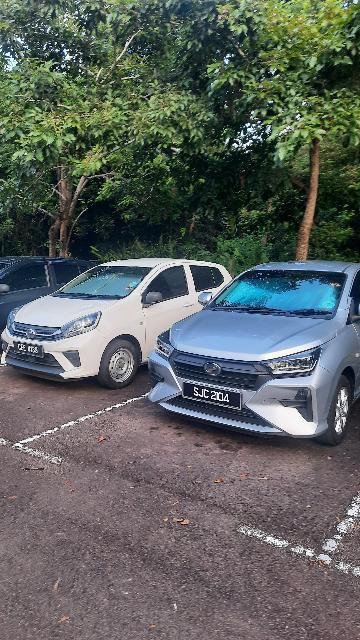License_Plate: (182, 378, 245, 417), (14, 342, 46, 359)
car: (154, 261, 360, 448), (2, 256, 239, 391)
